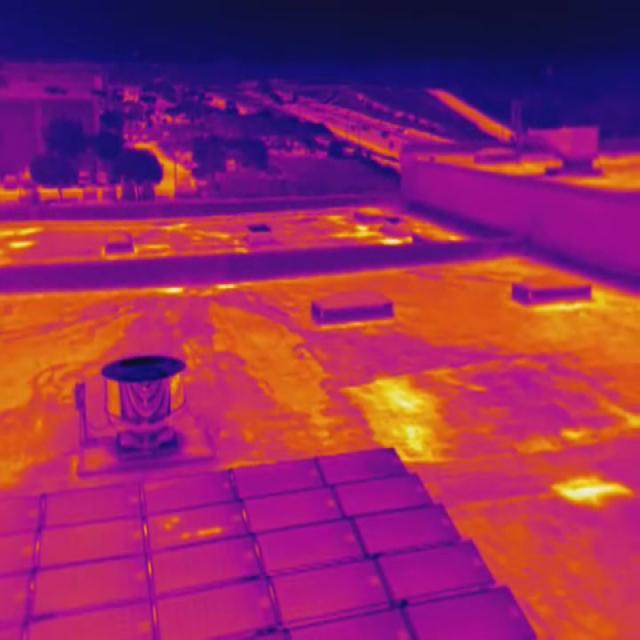Orange-Spots: (179, 526, 222, 540), (162, 514, 180, 534)
